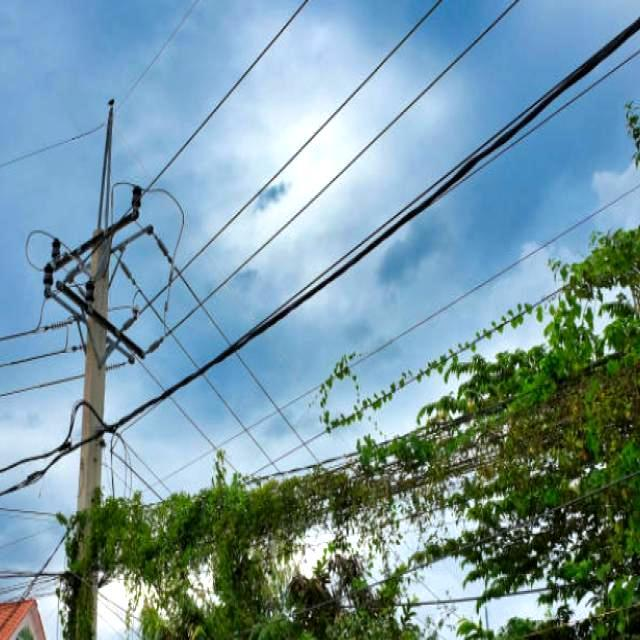light_pole: (63, 87, 126, 640), (48, 457, 160, 592)
